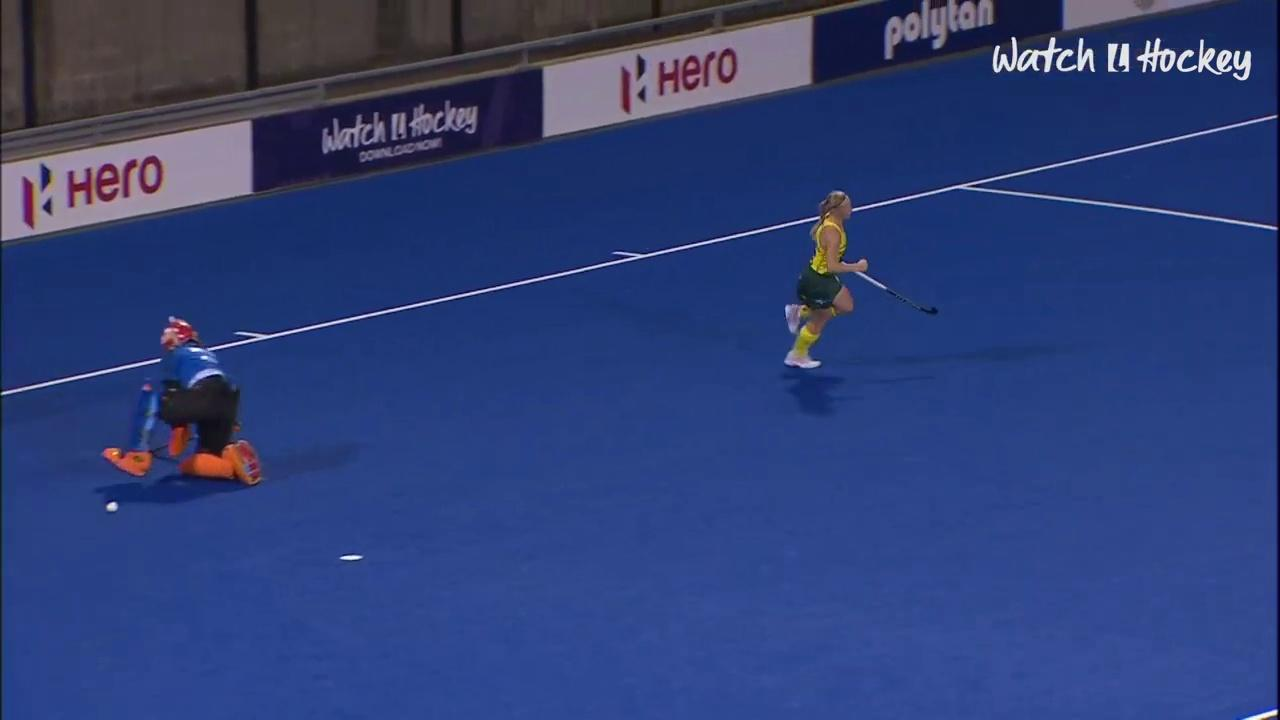ball: (97, 487, 128, 520)
